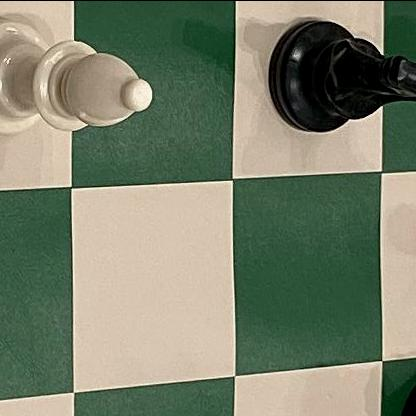black-knight: (265, 8, 416, 152)
white-bishop: (0, 3, 164, 144)
